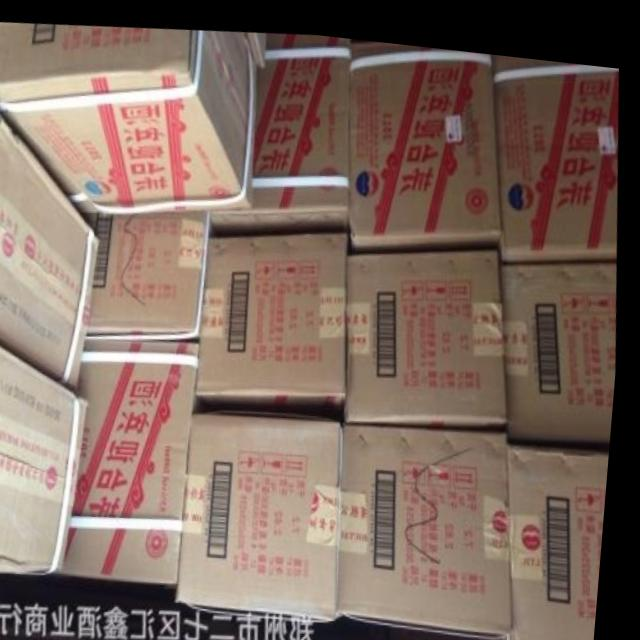box: (0, 22, 259, 213), (347, 415, 523, 628), (67, 335, 206, 580), (186, 404, 349, 610), (350, 32, 504, 245), (346, 238, 513, 419), (210, 26, 351, 231), (0, 113, 104, 388), (199, 225, 351, 409), (491, 43, 620, 250), (506, 430, 616, 640), (0, 340, 95, 576), (504, 247, 620, 430), (82, 205, 210, 332)
